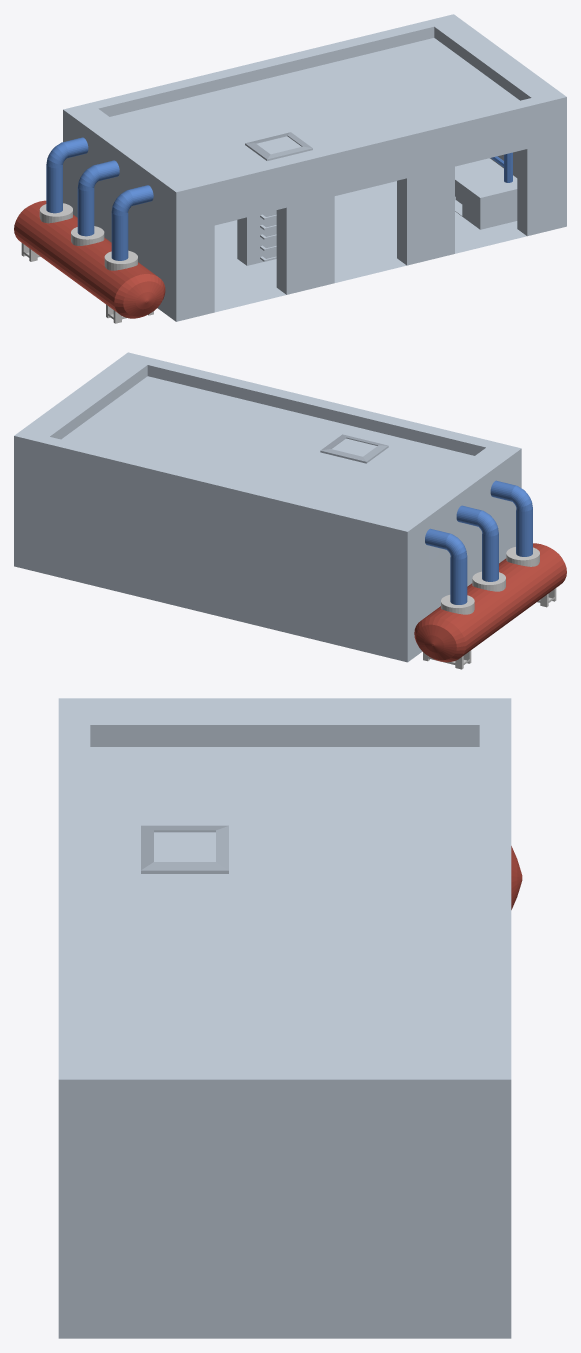
The model's file is warehouse.fbx.
The picture shows the model from 3 angles, top to bottom: view 1: azimuth 30°, elevation 25°; view 2: azimuth 150°, elevation 25°; view 3: azimuth 270°, elevation 25°; orthographic projection. The views are drawn at different scales.
Visible parts, largest first — view 1: warehouse; view 2: warehouse; view 3: warehouse.
Part boxes in pixels (x1=…): warehouse: x1=14, y1=14, x2=566, y2=323; warehouse: x1=14, y1=352, x2=566, y2=669; warehouse: x1=58, y1=698, x2=522, y2=1338.
Size of the model in its own units: 1105 by 308 by 499.
